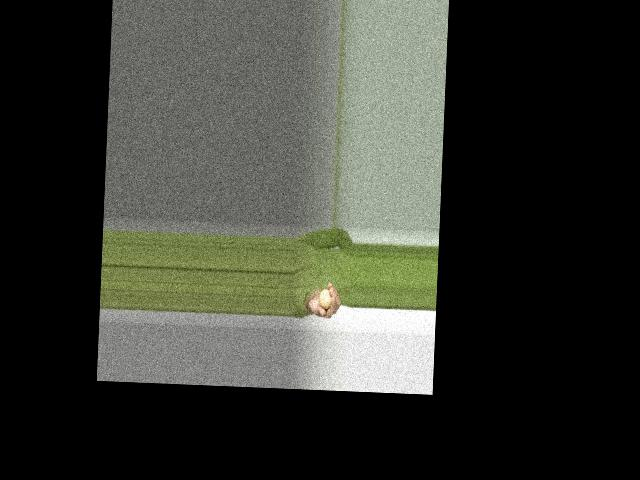egg: (319, 288, 332, 309)
